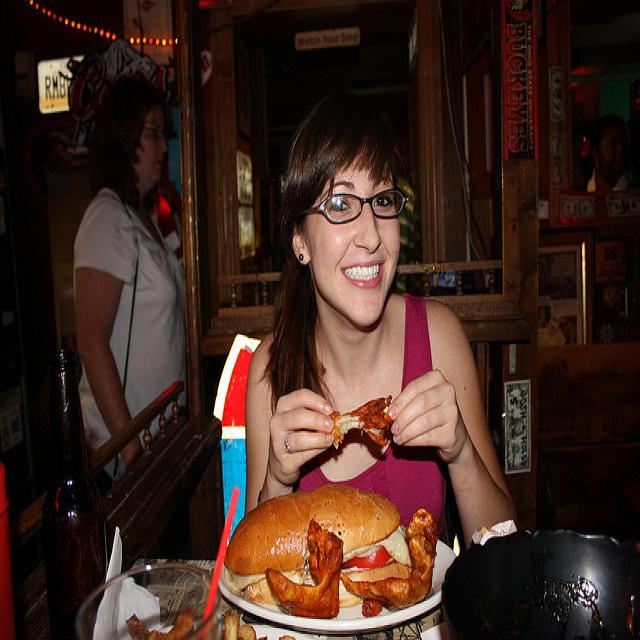People: (228, 73, 460, 638), (33, 78, 197, 627)
Table: (61, 497, 640, 640)
chair: (500, 312, 640, 595)
